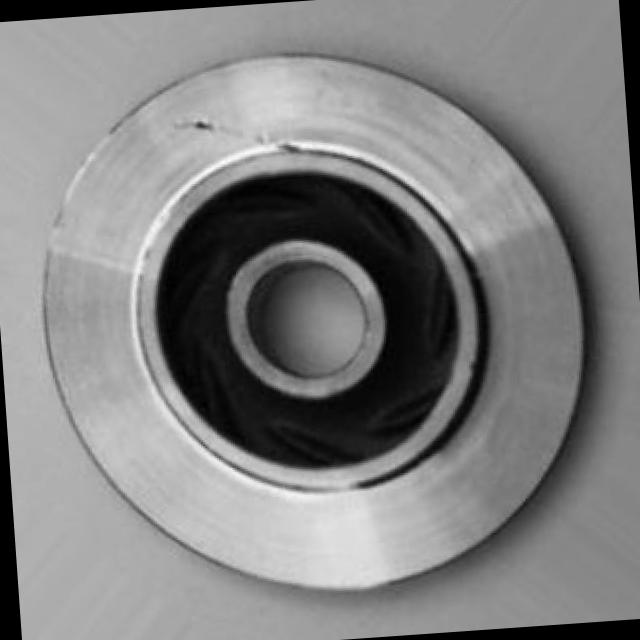Defect: (180, 101, 224, 147)
